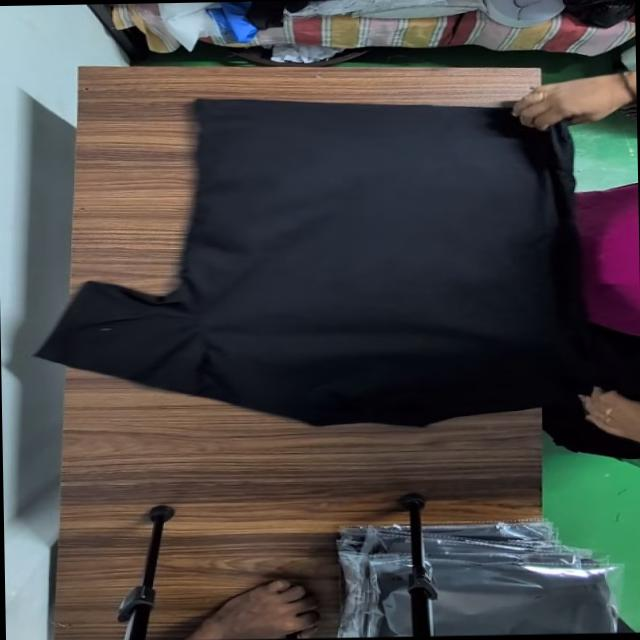new-garment: (40, 98, 592, 425)
